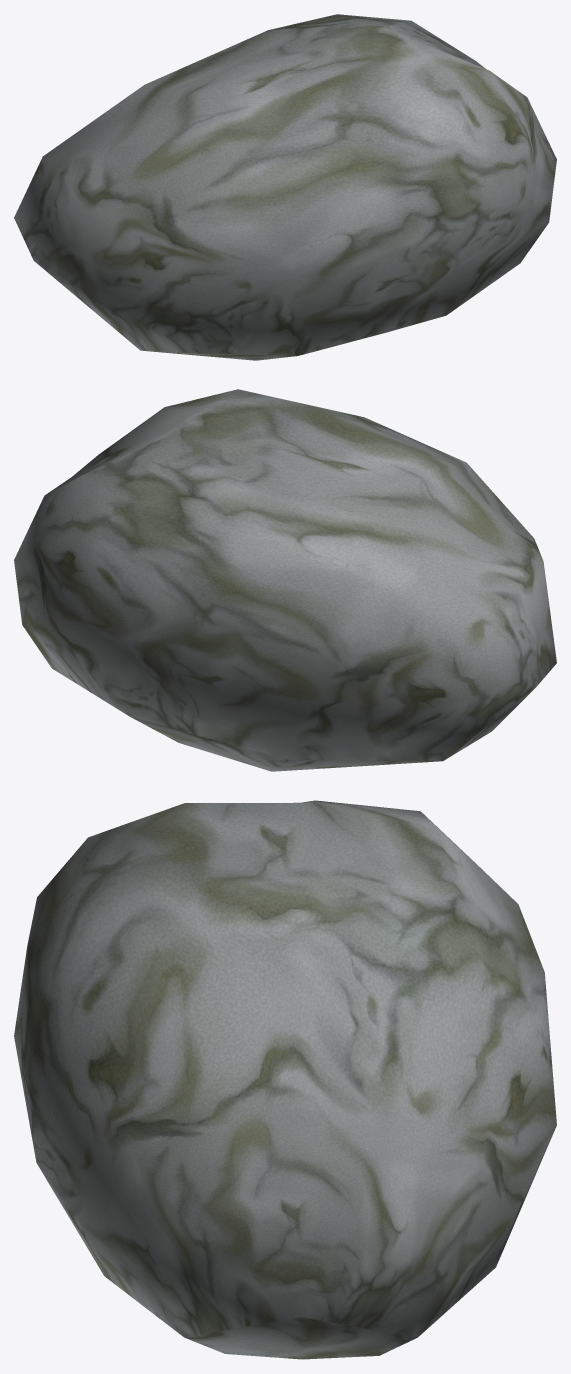
Rendered from Rock_big02.fbx.
The picture shows the model from 3 angles, top to bottom: view 1: azimuth 30°, elevation 25°; view 2: azimuth 150°, elevation 25°; view 3: azimuth 270°, elevation 25°; orthographic projection. The views are drawn at different scales.
Visible parts, largest first — view 1: Rock_big02; view 2: Rock_big02; view 3: Rock_big02.
Part boxes in pixels (x1=…): Rock_big02: x1=14, y1=14, x2=556, y2=360; Rock_big02: x1=14, y1=389, x2=556, y2=771; Rock_big02: x1=14, y1=800, x2=556, y2=1359.
Bounding box in the file's own units: 4.41 × 2.44 × 2.78.
Materials: 1 (1 with a texture image).
